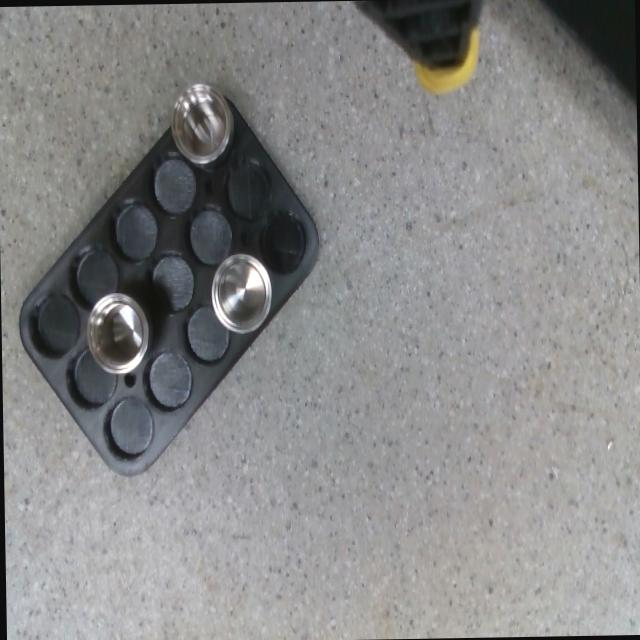sensor: (85, 292, 149, 373), (210, 251, 272, 332), (170, 84, 232, 164)
